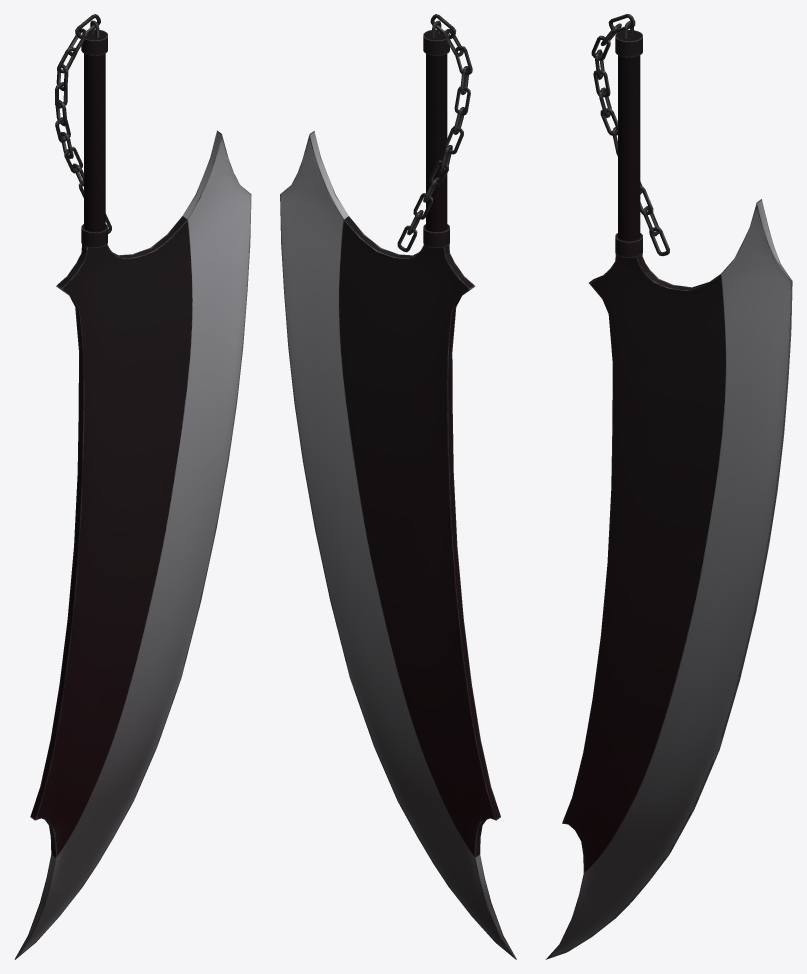
Rendered from sangetsu_draco.glb.
3 renders of one model, left to right at view 1: azimuth 30°, elevation 25°; view 2: azimuth 150°, elevation 25°; view 3: azimuth 330°, elevation 25°, orthographic. The views are drawn at different scales.
Visible parts, largest first — view 1: fullbring Tensa Zangetsu_low_10 - Default_0; view 2: fullbring Tensa Zangetsu_low_10 - Default_0; view 3: fullbring Tensa Zangetsu_low_10 - Default_0.
Boxes of the visible parts, x1,y1,x2,y2 form: fullbring Tensa Zangetsu_low_10 - Default_0: [14, 14, 251, 959]; fullbring Tensa Zangetsu_low_10 - Default_0: [280, 14, 516, 959]; fullbring Tensa Zangetsu_low_10 - Default_0: [545, 14, 792, 959].
Size of the model in its own units: 1.78 by 6.66 by 0.2705.
1 material, 1 textured.
